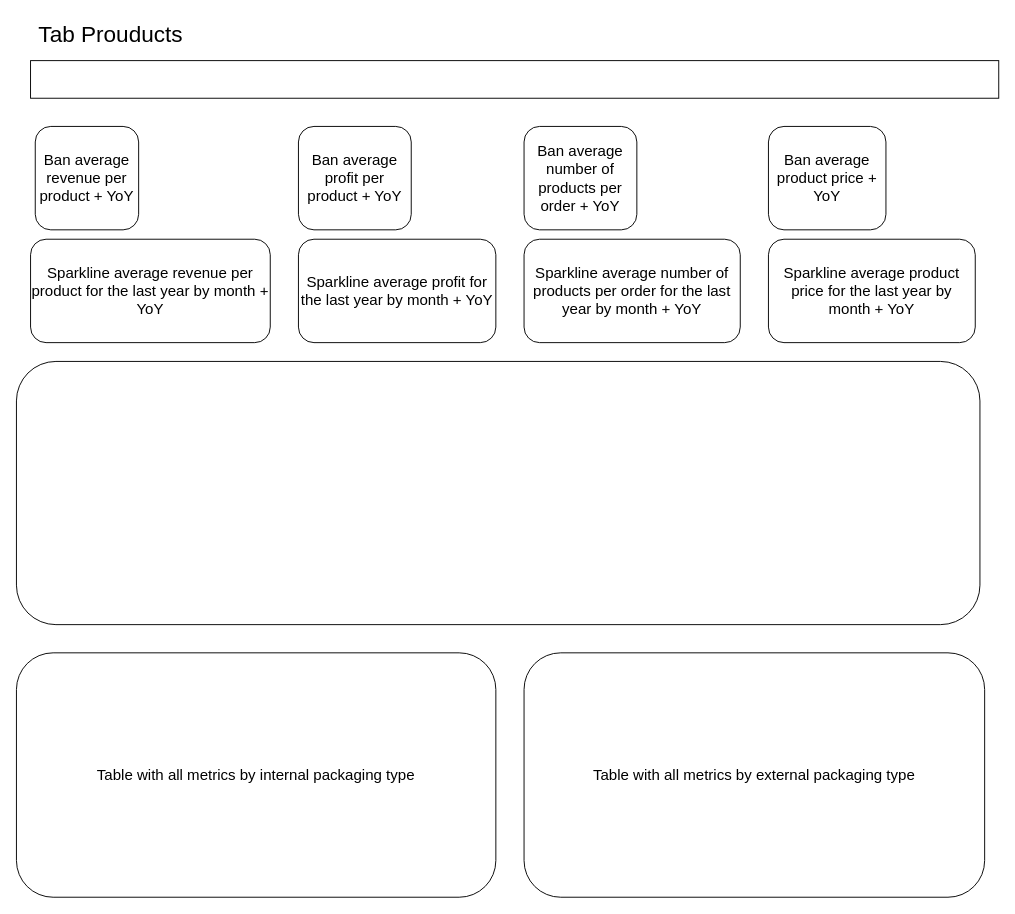
The diagram is 1015 pixels wide and 914 high, and some of its shapes have lost their labels. Each missing label, with the centre of its shape:
Filters: product category, internal packaging type, external packaging type: the point at 514,79
Table with all metrics by product category: the point at 498,492
